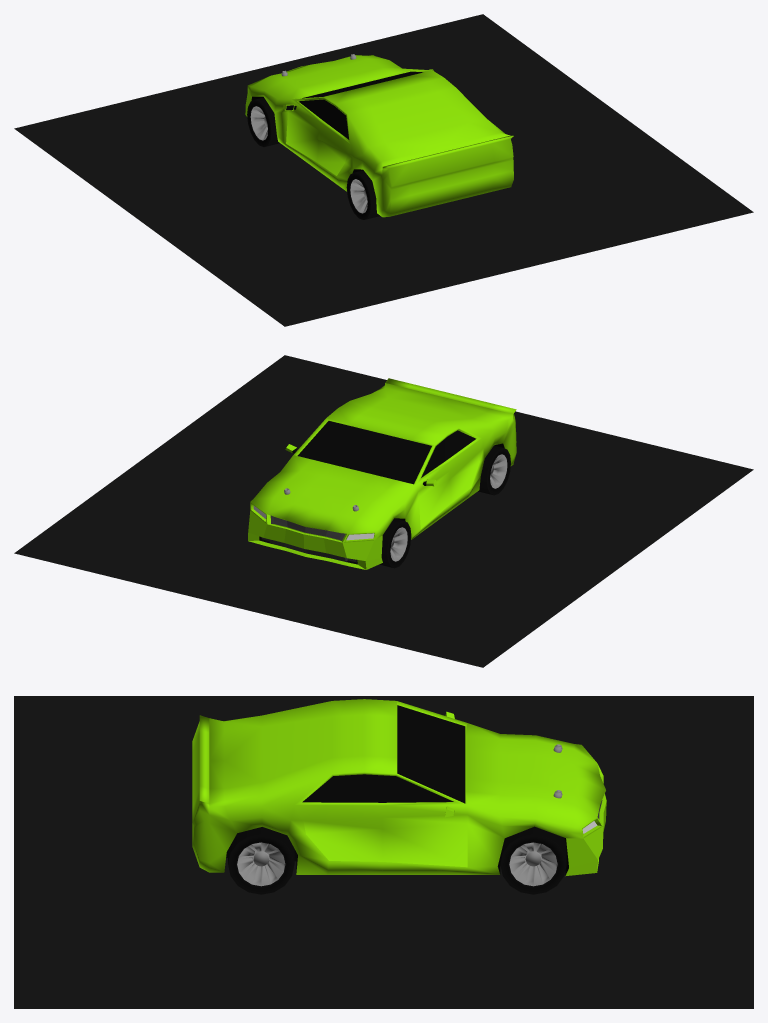
The model's file is Car3.fbx.
The picture shows the model from 3 angles, top to bottom: view 1: azimuth 30°, elevation 25°; view 2: azimuth 150°, elevation 25°; view 3: azimuth 270°, elevation 25°; orthographic projection. The views are drawn at different scales.
Visible parts, largest first — view 1: Plane, Car; view 2: Plane, Car; view 3: Plane, Car.
Boxes of the visible parts, box(x1,y1,x2,y2) form: Plane: box(14, 14, 753, 326); Car: box(245, 54, 513, 219); Plane: box(14, 355, 753, 667); Car: box(248, 378, 516, 569); Plane: box(14, 696, 753, 1008); Car: box(192, 699, 606, 894).
Size of the model in its own units: 713 by 124 by 713.
